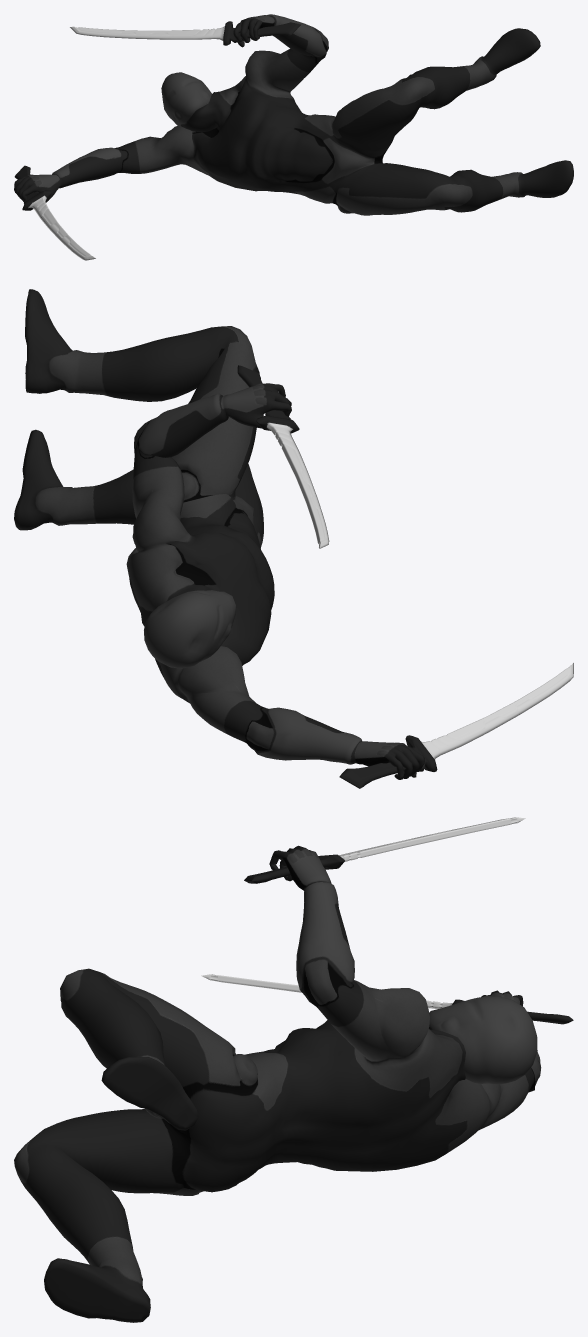
3 views of the same model, one above another, from view 1: azimuth 30°, elevation 25°; view 2: azimuth 150°, elevation 25°; view 3: azimuth 270°, elevation 25° (orthographic). The views are drawn at different scales.
Parts seen in each view (by area): view 1: Cyborg_Ninja_Killer, Sword_l, Sword_l001; view 2: Cyborg_Ninja_Killer, Sword_l001, Sword_l; view 3: Cyborg_Ninja_Killer, Sword_l, Sword_l001.
Boxes of the visible parts, x1=… form: Cyborg_Ninja_Killer: x1=14, y1=14, x2=573, y2=215; Sword_l: x1=70, y1=21, x2=300, y2=45; Sword_l001: x1=14, y1=165, x2=95, y2=260; Cyborg_Ninja_Killer: x1=14, y1=289, x2=424, y2=779; Sword_l001: x1=339, y1=663, x2=573, y2=788; Sword_l: x1=237, y1=365, x2=329, y2=548; Cyborg_Ninja_Killer: x1=14, y1=845, x2=541, y2=1322; Sword_l: x1=244, y1=817, x2=525, y2=883; Sword_l001: x1=201, y1=974, x2=573, y2=1024.
Size of the model in its own units: 184 by 78.41 by 131.
2 materials, 2 textured.
